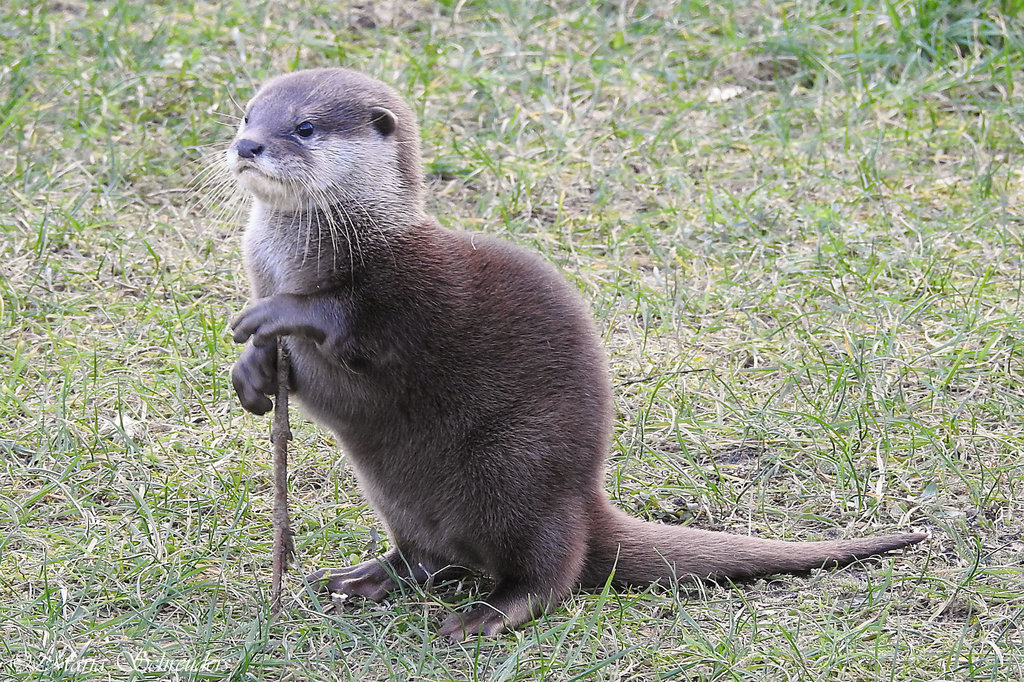meerkat: (203, 48, 943, 655)
